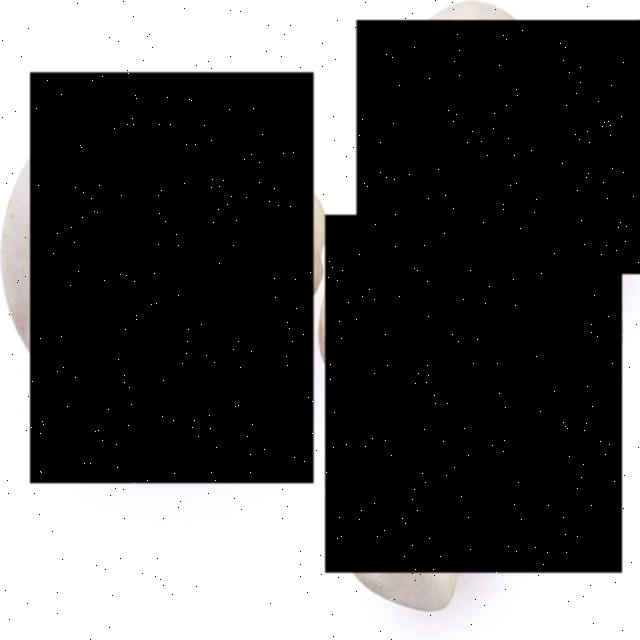Mushroom: (30, 73, 314, 484), (326, 215, 622, 573), (356, 21, 640, 274)
